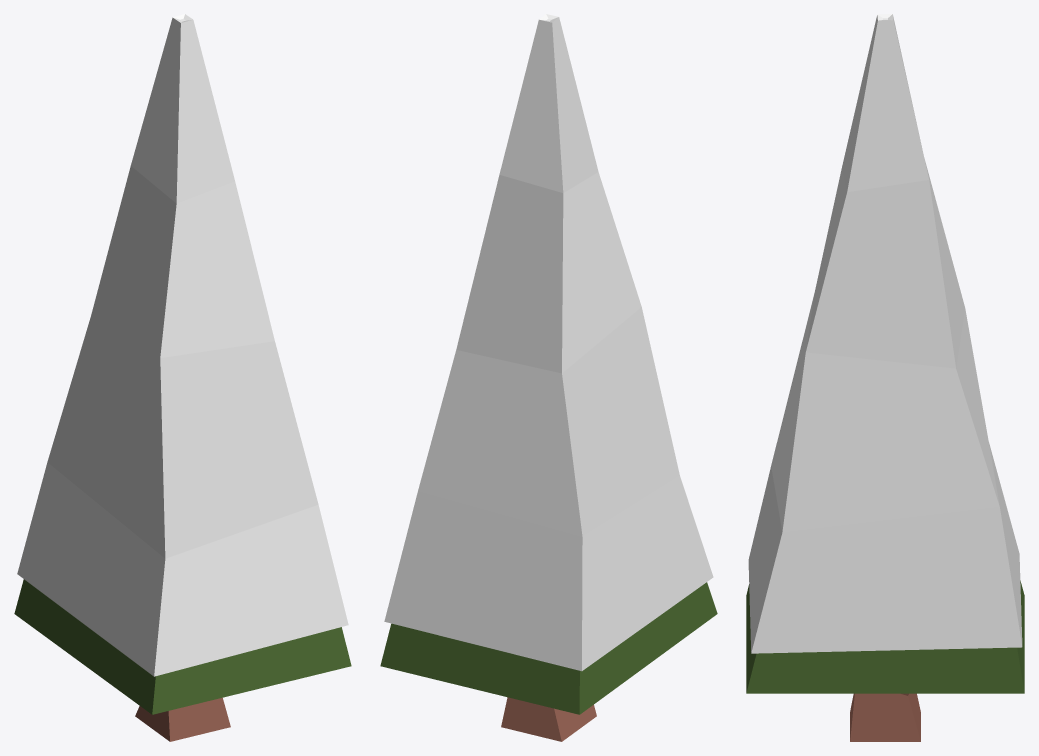
File: tree4.glb
3 renders of one model, left to right at view 1: azimuth 30°, elevation 25°; view 2: azimuth 150°, elevation 25°; view 3: azimuth 270°, elevation 25°, orthographic.
Parts seen in each view (by area): view 1: Tree 4_0.001; view 2: Tree 4_0.001; view 3: Tree 4_0.001.
Part boxes in pixels (left/top/right/bottom): Tree 4_0.001: left=14, top=14, right=351, bottom=741; Tree 4_0.001: left=380, top=14, right=717, bottom=741; Tree 4_0.001: left=746, top=14, right=1024, bottom=741.
Size of what is drawn, in the model's own units: 2.99 by 10.06 by 3.58.
Materials: 1 (1 with a texture image).
